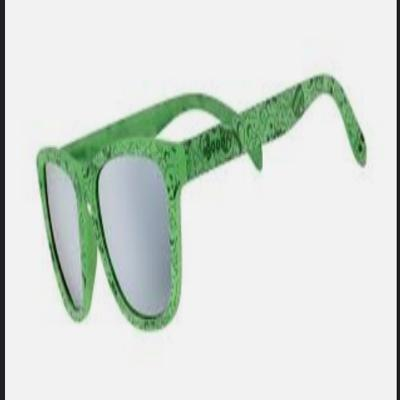glasses: (35, 73, 373, 330)
